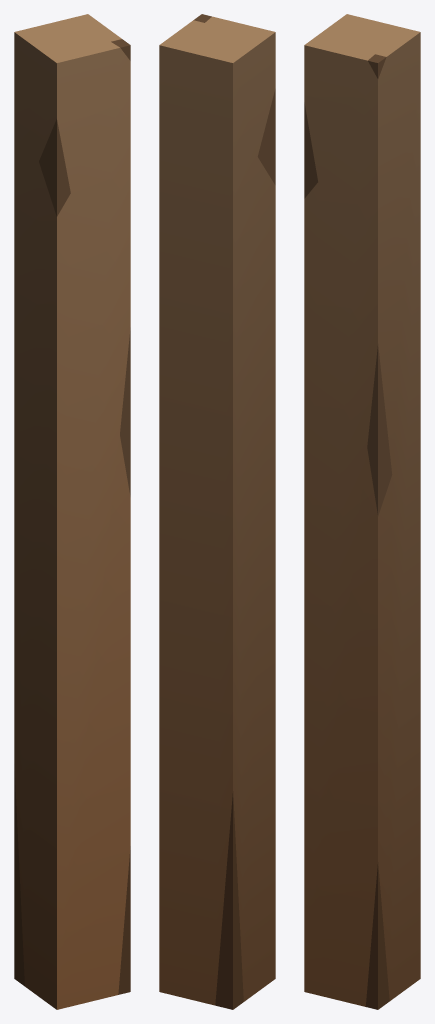
File: cutepack2023woodbeam.fbx
3 renders of one model, left to right at view 1: azimuth 30°, elevation 25°; view 2: azimuth 150°, elevation 25°; view 3: azimuth 330°, elevation 25°, orthographic.
Parts seen in each view (by area): view 1: Cube.073; view 2: Cube.073; view 3: Cube.073.
Part boxes in pixels (x1,y1,x2,y2): Cube.073: (14,14,130,1009); Cube.073: (159,14,275,1009); Cube.073: (304,14,420,1009).
Size of the model in its own units: 66.48 by 815 by 66.48.
